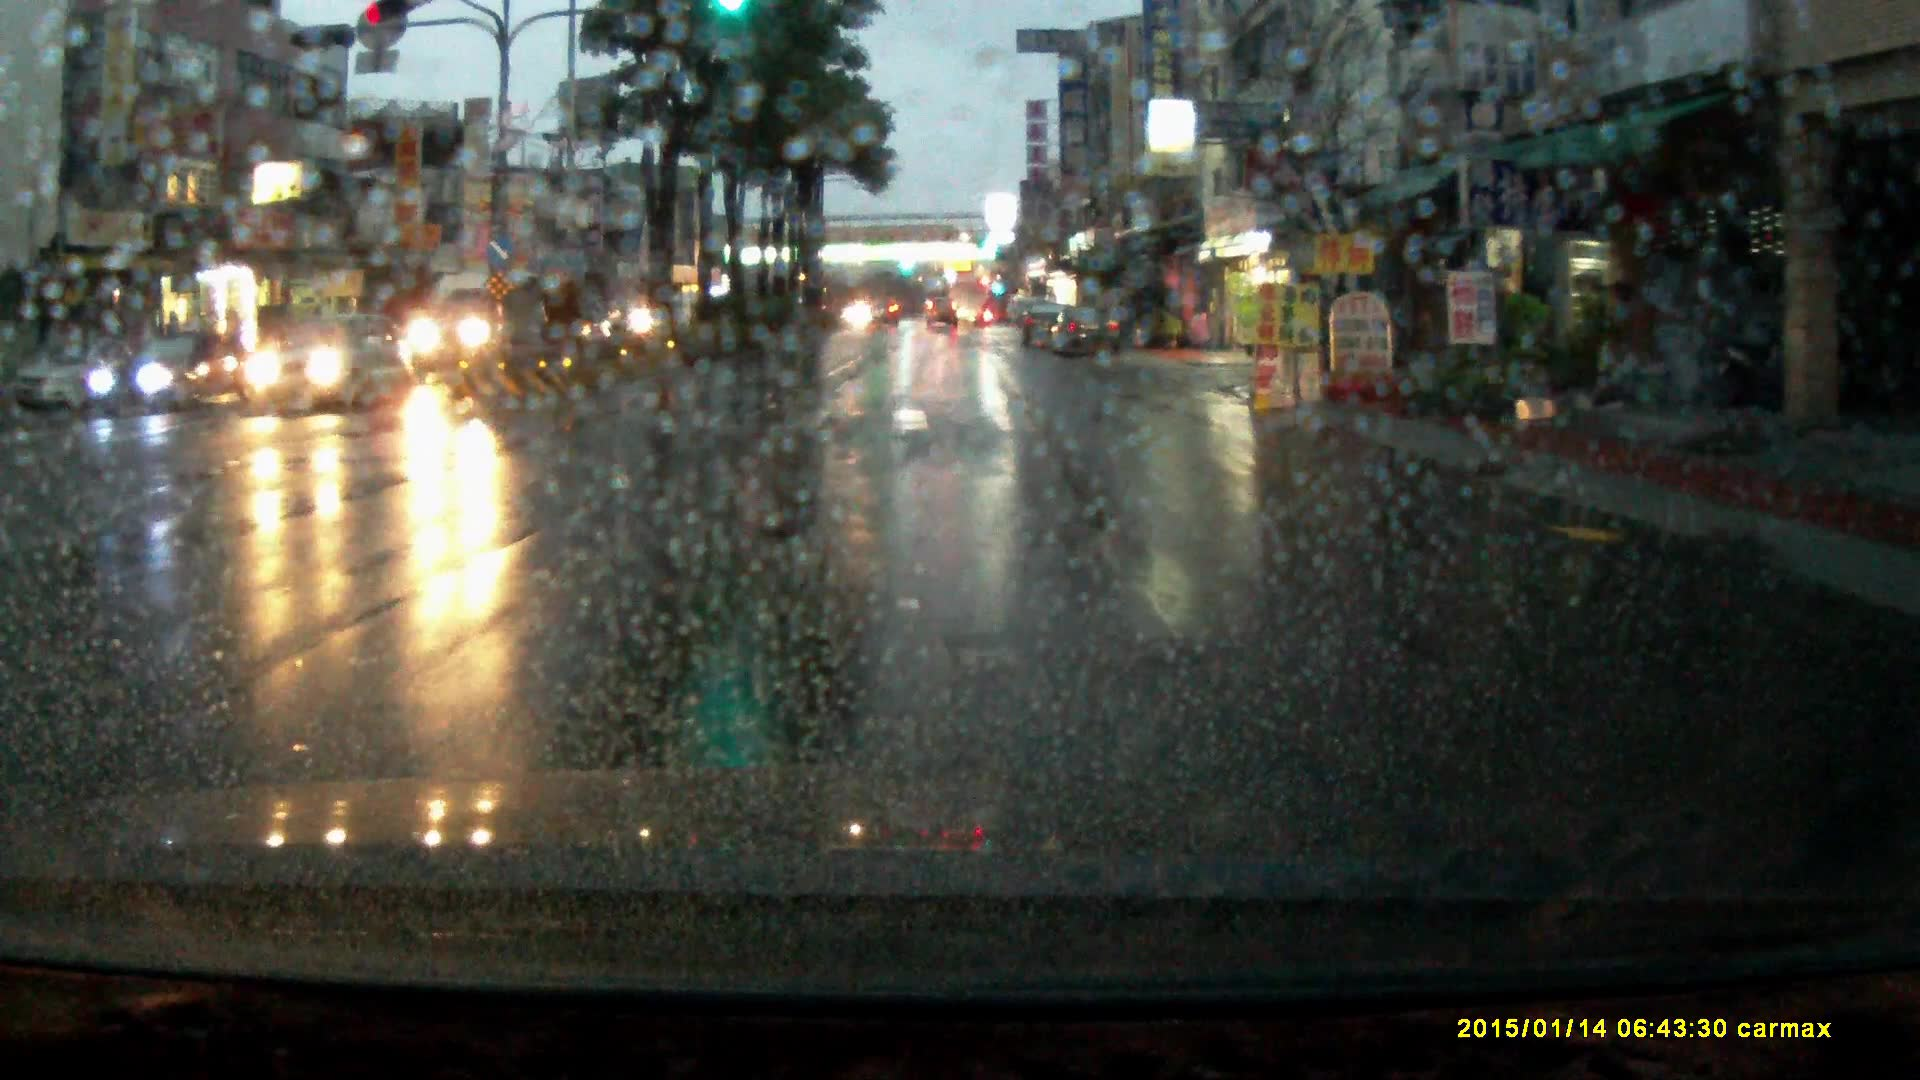vehicle: (243, 318, 413, 419), (409, 266, 545, 386), (73, 334, 223, 415), (18, 335, 136, 411), (1051, 307, 1124, 360), (1021, 305, 1069, 353), (949, 274, 988, 330), (927, 297, 959, 334), (865, 298, 899, 330)
